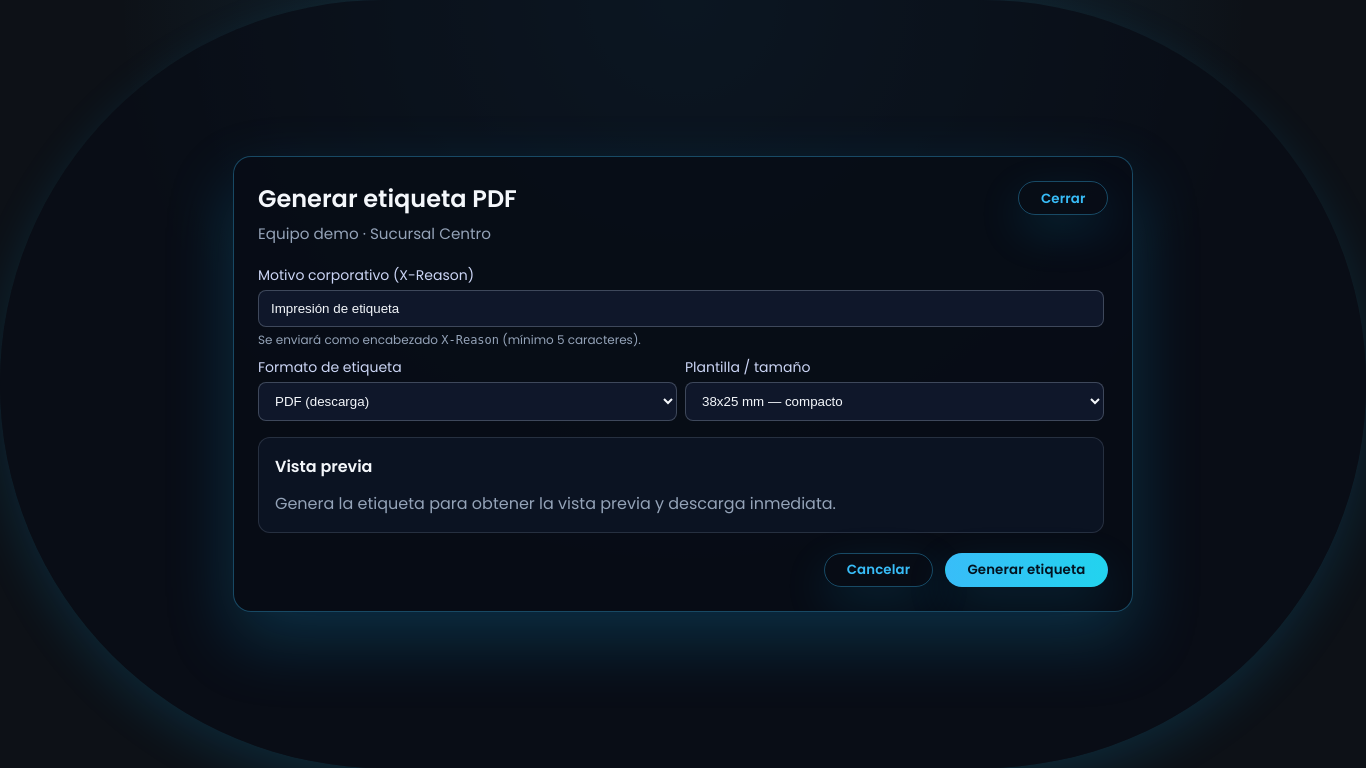
Test case: LabelPrinter › no solicita etiqueta cuando el motivo es inválido en comandos directos
This screenshot has width=1366, height=768.
Select "ZPL · Zebra (directo)" in the dropdown labelled "Formato de etiqueta" at (468, 401), box [258,382,677,420]
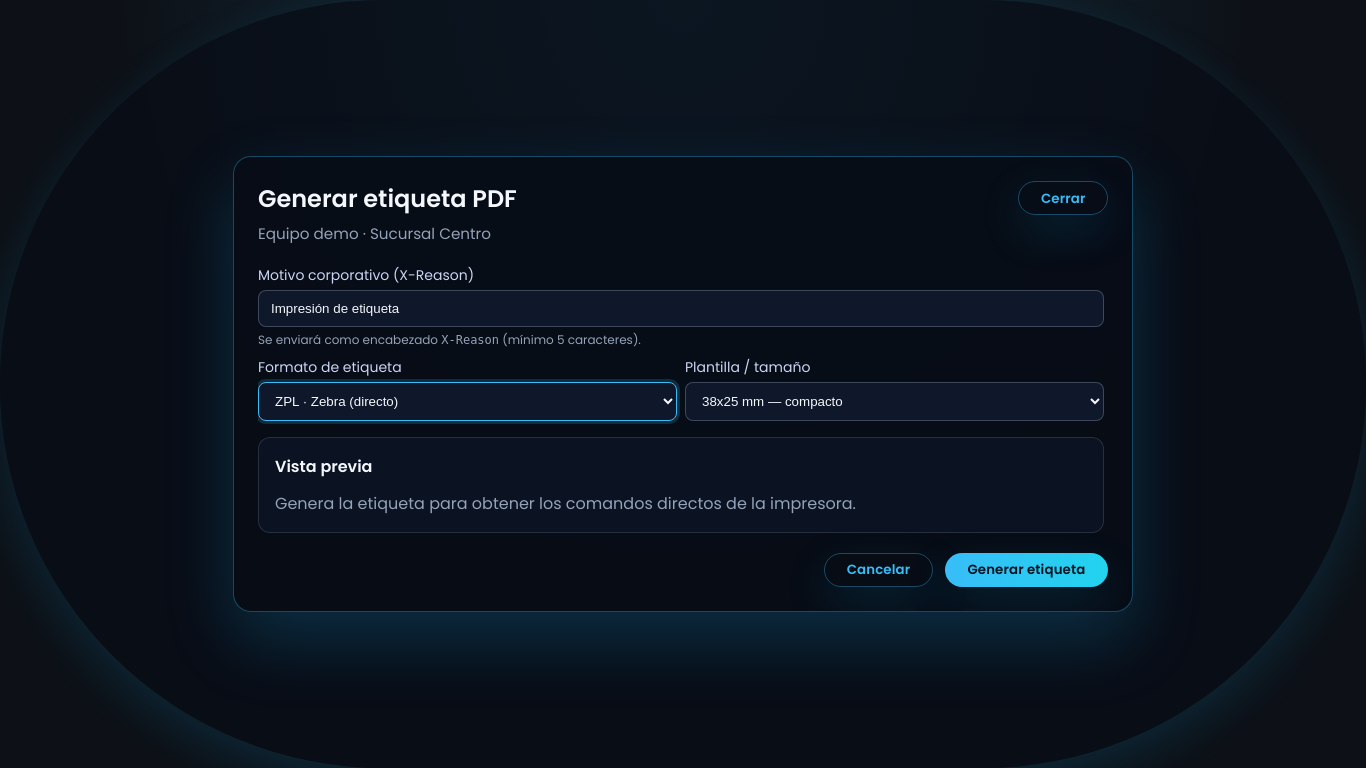
Replace the text in the field labelled "Motivo corporativo" with "1234" at (681, 308), box [258,290,1104,326]
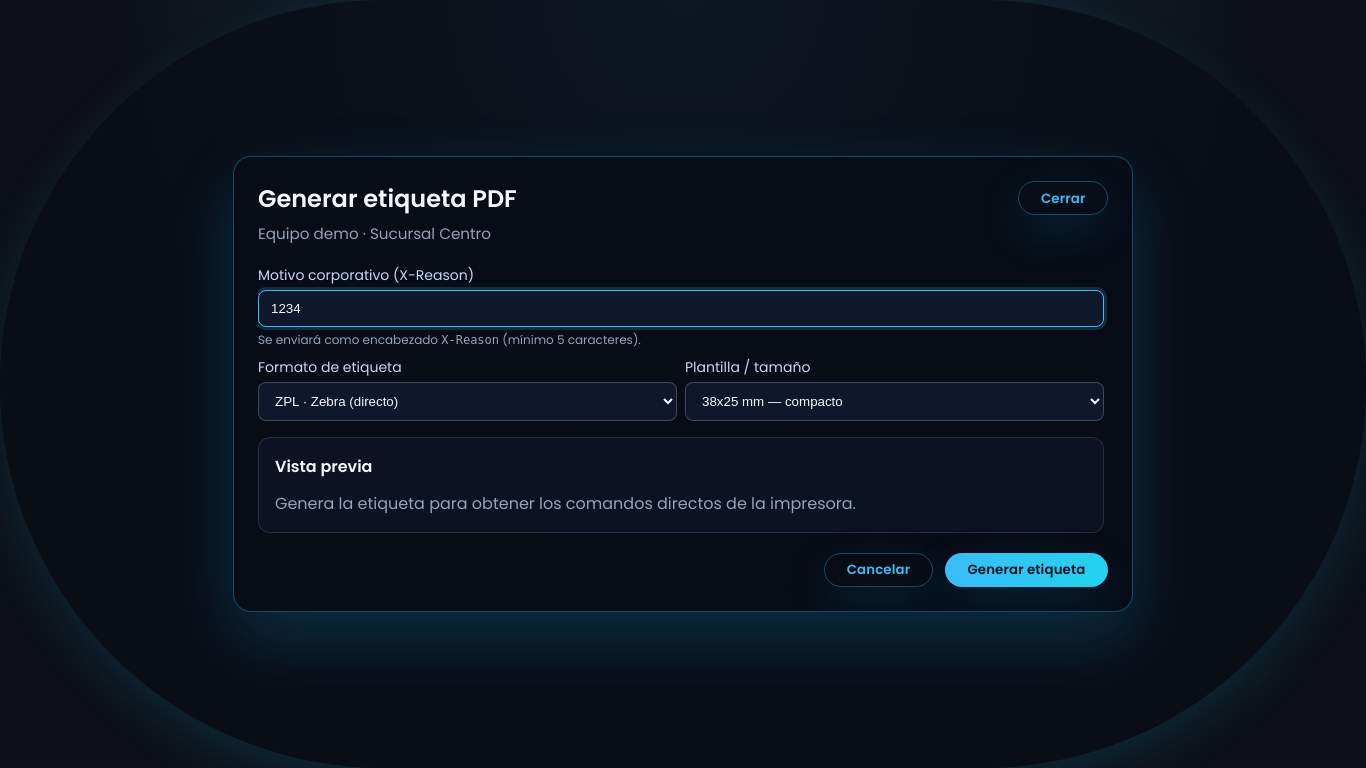
Click the button "Generar etiqueta" at (1026, 570), box [945,552,1108,587]
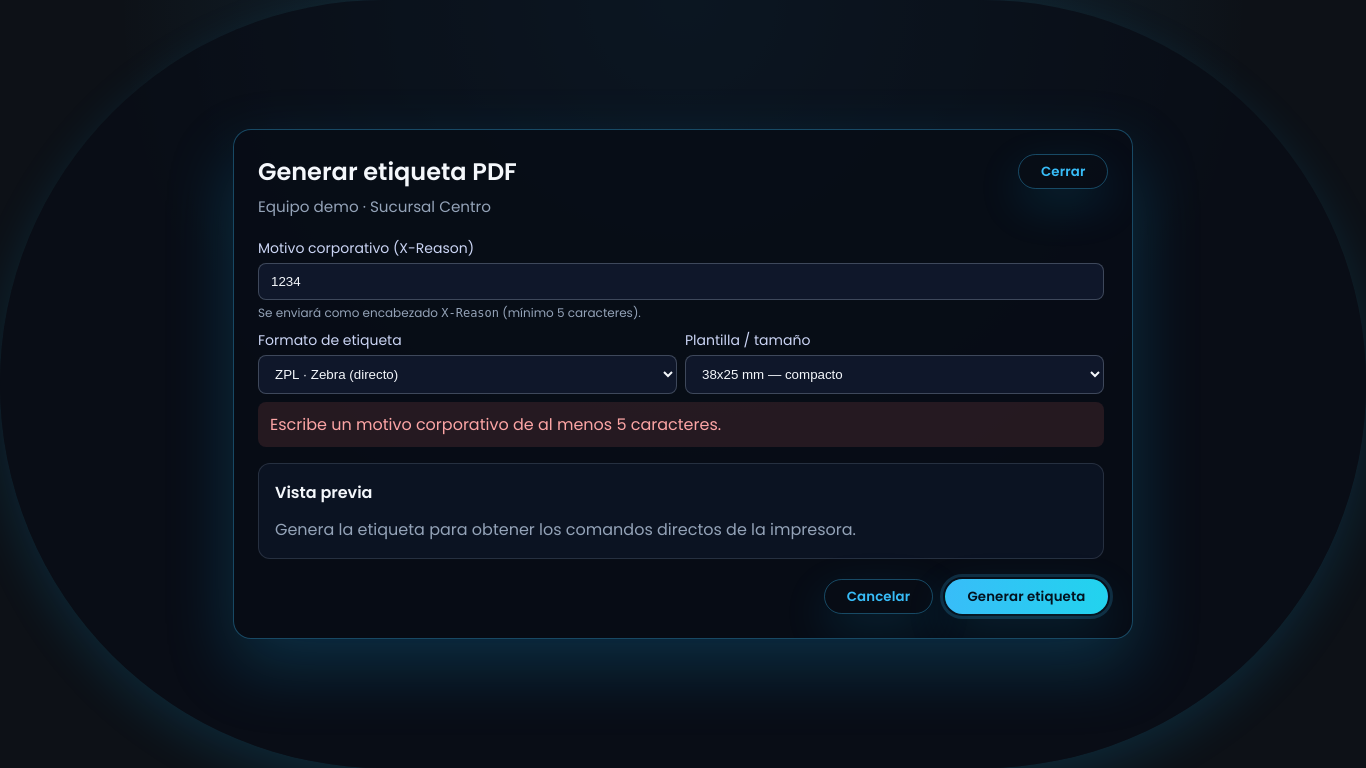
expect the text "Escribe un motivo corporativo de al menos 5 caracteres." is shown: met, box [258,402,1104,447]
